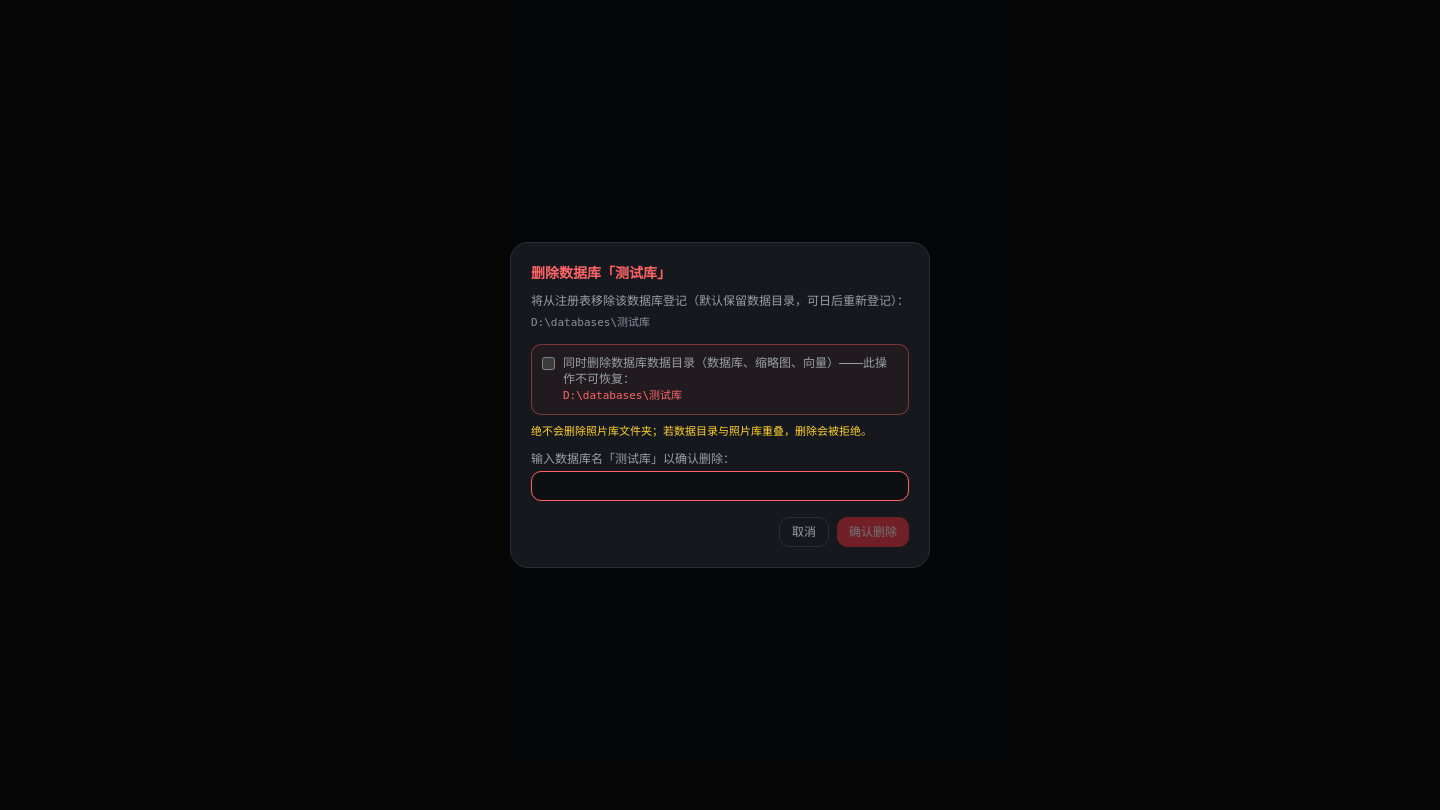
删除数据库对话框（老 DeleteLibraryDialog 形态 + 两档内核） › 后端失败：模态提示、删除对话框保留
Type "测试库" into the field with test id "delete-database-input". click: (720,486)
box: [531, 471, 909, 501]
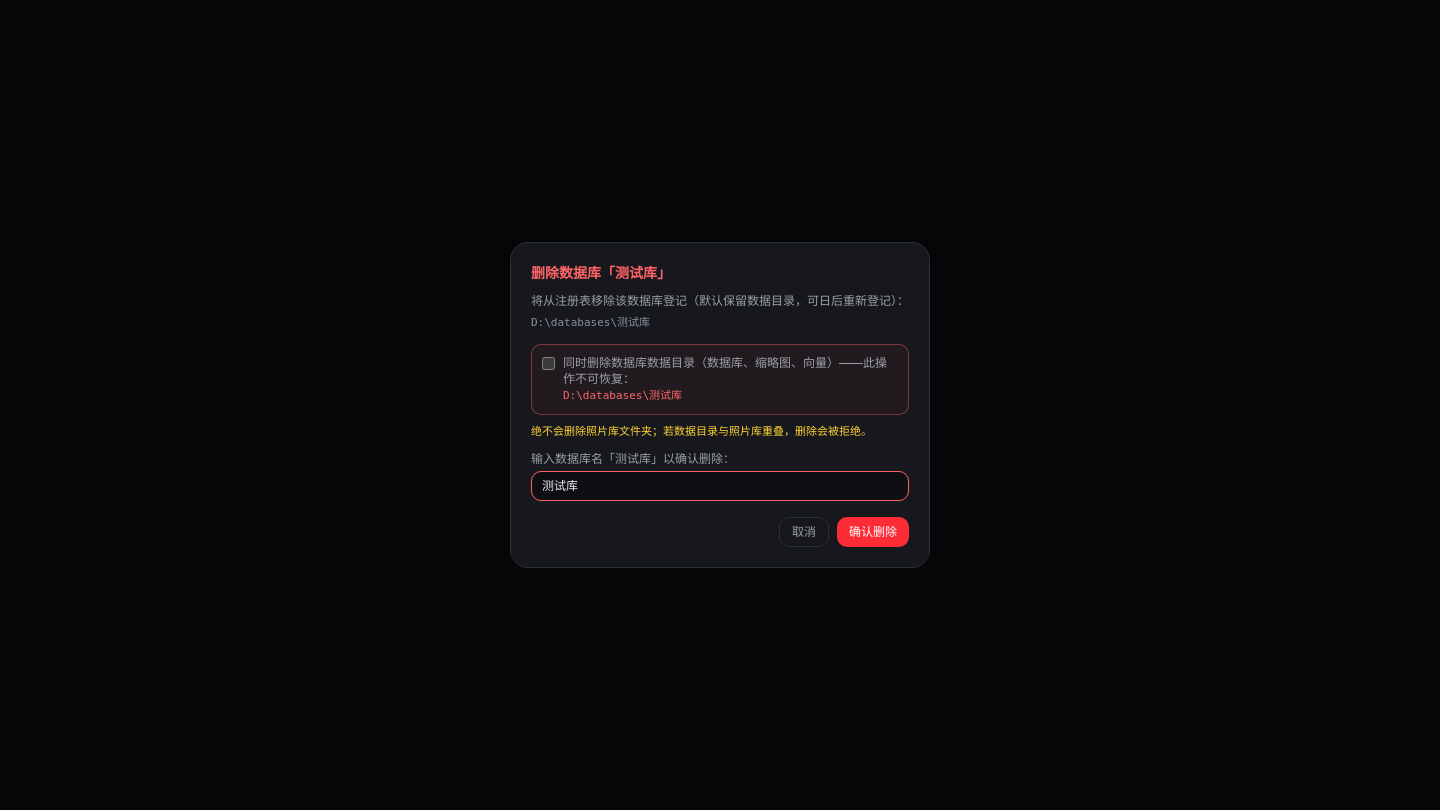
Click the button with test id "delete-database-confirm". click: (873,532)
box: [837, 517, 909, 547]
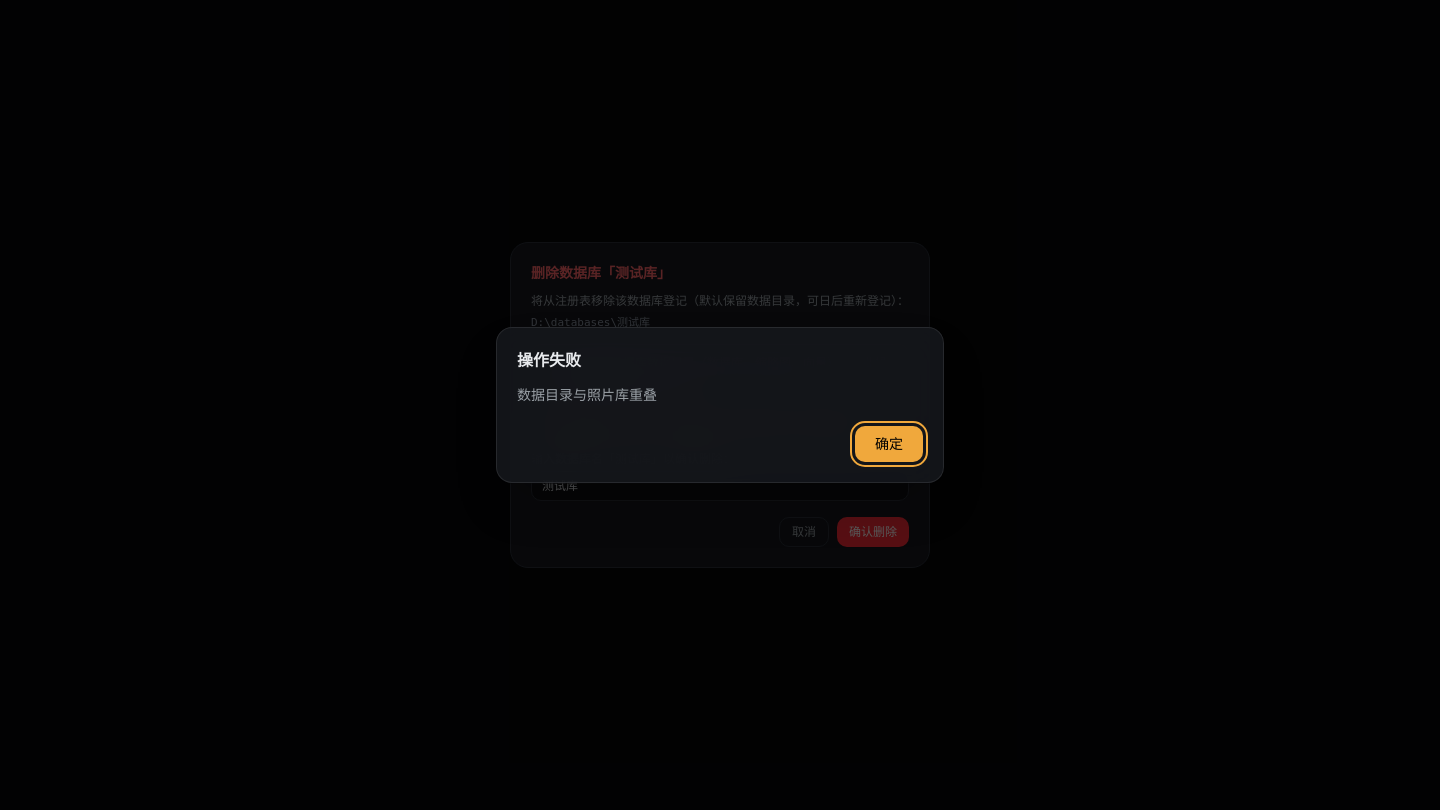
Expected: the dialog shows "数据目录与照片库重叠", [517, 386, 657, 403]
Click the button "确定". click: (889,444)
box: [855, 426, 923, 462]
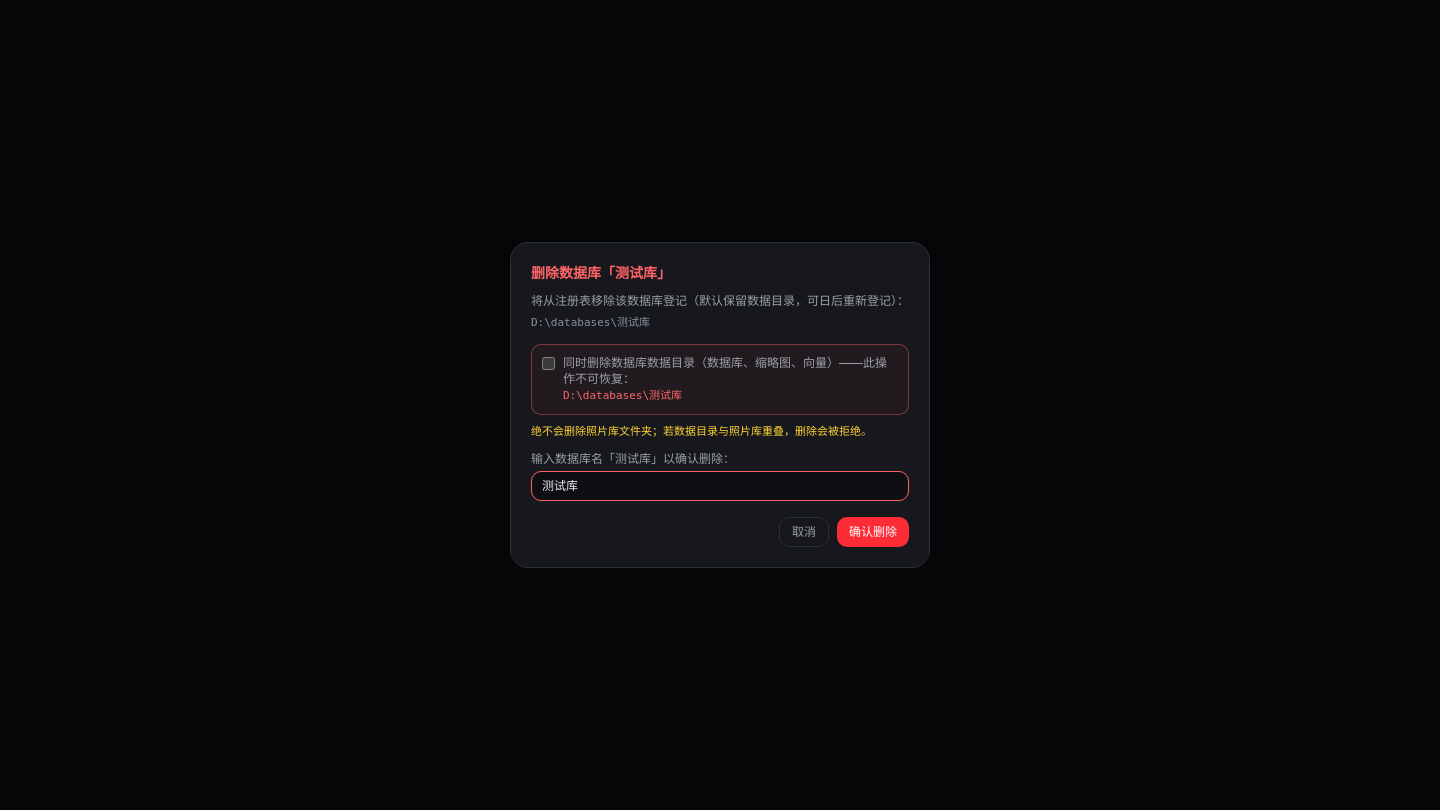
Expected: the dialog is gone
